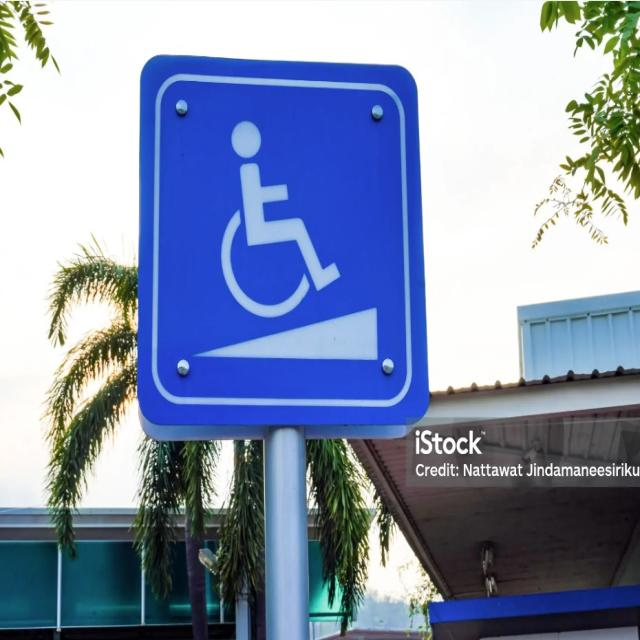symbol_of_access: (135, 52, 432, 427)
